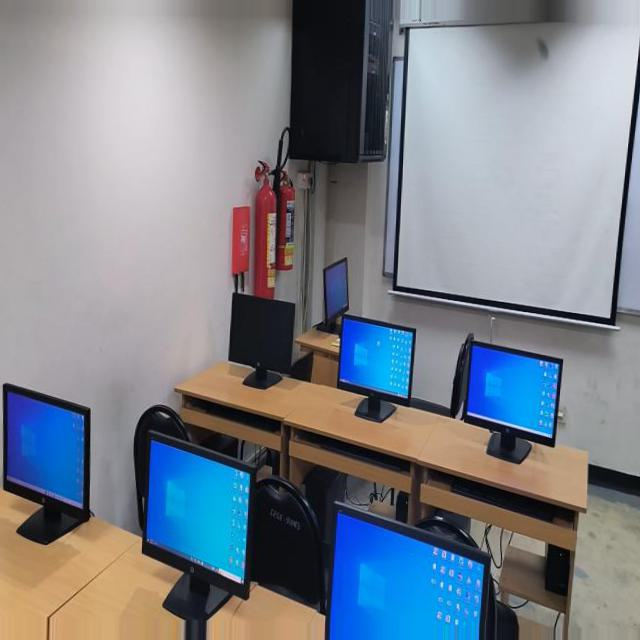Chair: (309, 485, 376, 628), (435, 412, 487, 543)
Fire Extinguisher: (362, 172, 382, 299), (346, 164, 360, 268)
Keyboard: (85, 481, 199, 529), (235, 437, 335, 478), (353, 404, 441, 440)
Monitor: (374, 441, 476, 639), (157, 511, 307, 639), (524, 393, 608, 562), (98, 337, 199, 466), (232, 313, 302, 426), (343, 295, 402, 393), (294, 254, 325, 333)
